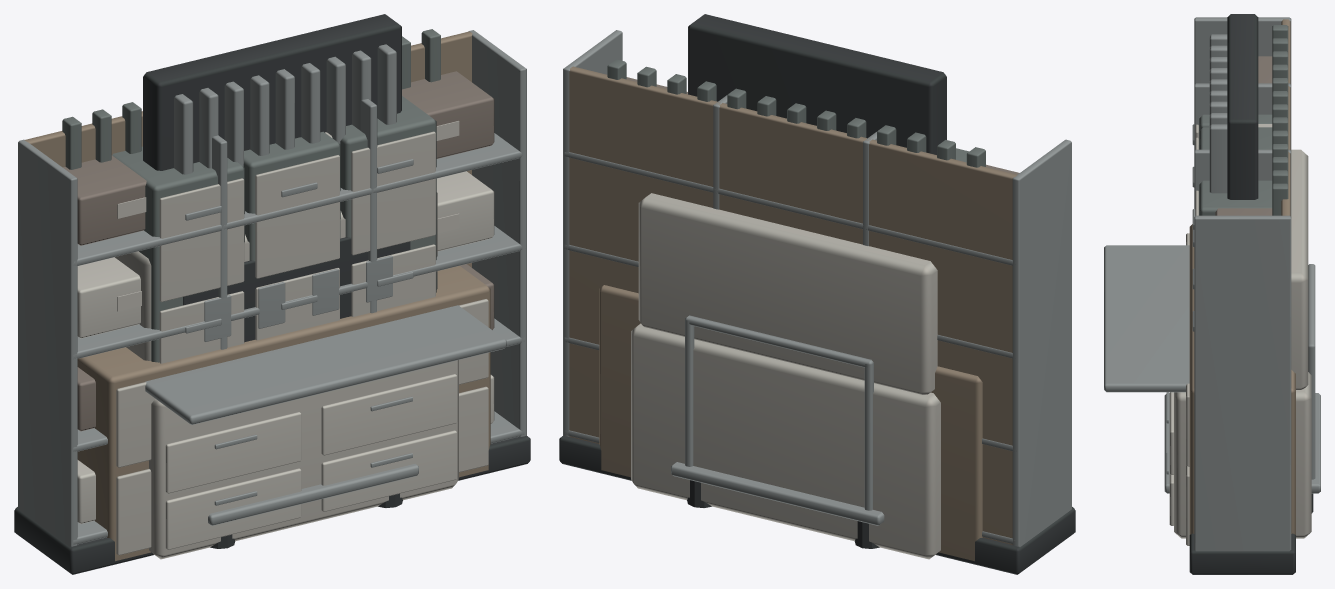
The model's file is room-setpieces.glb.
The picture shows the model from 3 angles, left to right: view 1: azimuth 30°, elevation 25°; view 2: azimuth 150°, elevation 25°; view 3: azimuth 270°, elevation 25°; orthographic projection. The views are drawn at different scales.
Visible parts, largest first — view 1: MailSorter_DecorMatte, LabInstrument_DecorMatte, Lockers_DecorMatte, AcousticPanel_DecorMatte, OfficeArchive_DecorMatte, ParcelTrolley_DecorMatte; view 2: MailSorter_DecorMatte, LabInstrument_DecorMatte, AcousticPanel_DecorMatte, OfficeArchive_DecorMatte, ParcelTrolley_DecorMatte; view 3: MailSorter_DecorMatte, LabInstrument_DecorMatte, AcousticPanel_DecorMatte, OfficeArchive_DecorMatte, Lockers_DecorMatte, ParcelTrolley_DecorMatte.
Boxes of the visible parts, x1,y1,x2,y2 form: MailSorter_DecorMatte: (14, 30, 530, 574); LabInstrument_DecorMatte: (115, 192, 506, 559); Lockers_DecorMatte: (112, 96, 436, 363); AcousticPanel_DecorMatte: (143, 14, 401, 174); OfficeArchive_DecorMatte: (62, 29, 490, 561); ParcelTrolley_DecorMatte: (208, 463, 418, 548); MailSorter_DecorMatte: (559, 30, 1075, 574); LabInstrument_DecorMatte: (631, 193, 940, 559); AcousticPanel_DecorMatte: (688, 14, 946, 154); OfficeArchive_DecorMatte: (599, 59, 985, 561); ParcelTrolley_DecorMatte: (671, 315, 884, 548); MailSorter_DecorMatte: (1189, 17, 1295, 574); LabInstrument_DecorMatte: (1104, 149, 1311, 538); AcousticPanel_DecorMatte: (1209, 14, 1258, 199); OfficeArchive_DecorMatte: (1186, 25, 1295, 545); Lockers_DecorMatte: (1192, 114, 1272, 331); ParcelTrolley_DecorMatte: (1164, 264, 1320, 513).
Bounding box in the file's own units: 7.7 × 7.2 × 3.47.
